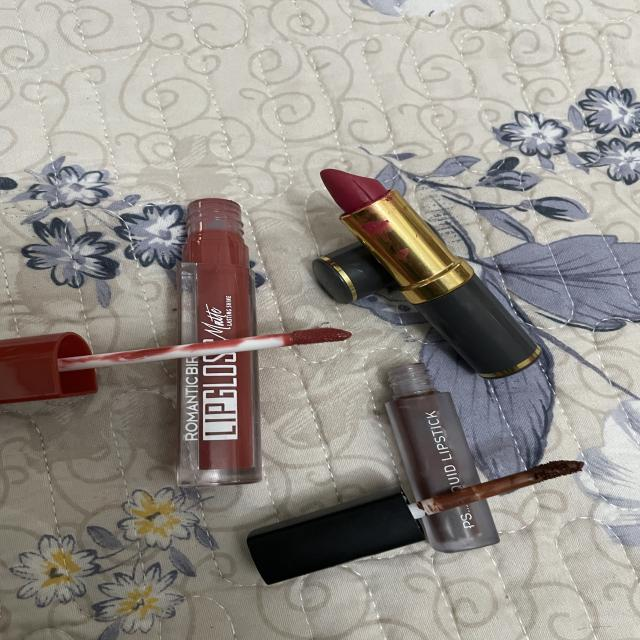lip gloss: (156, 183, 278, 496), (354, 352, 504, 560)
lip stick: (301, 148, 567, 386)
